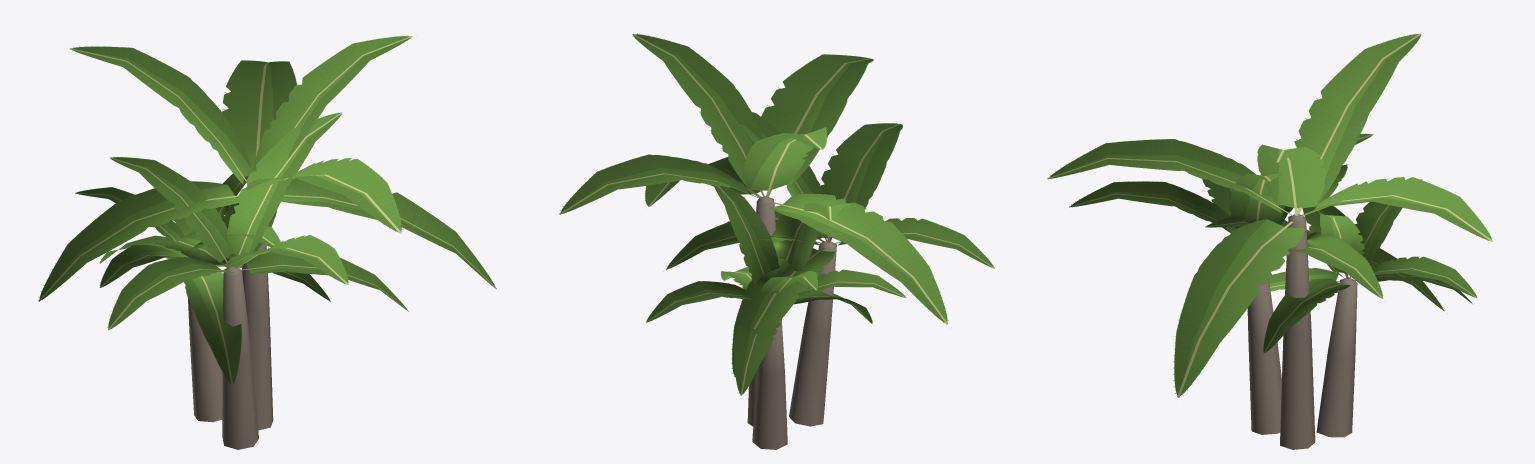
Rendered from veg_banana_a.glb.
The picture shows the model from 3 angles, left to right: view 1: azimuth 30°, elevation 25°; view 2: azimuth 150°, elevation 25°; view 3: azimuth 270°, elevation 25°; orthographic projection. The views are drawn at different scales.
Parts seen in each view (by area): view 1: Leaves, Trunk; view 2: Leaves, Trunk; view 3: Leaves, Trunk.
Boxes of the visible parts, box(x1,y1,x2,y2) form: Leaves: box(38, 35, 496, 385); Trunk: box(188, 243, 273, 449); Leaves: box(559, 33, 994, 395); Trunk: box(747, 196, 836, 449); Leaves: box(1047, 33, 1492, 397); Trunk: box(1247, 214, 1357, 449).
Size of the model in its own units: 17.98 by 14.94 by 18.25.
Materials: 2 (2 with a texture image).
